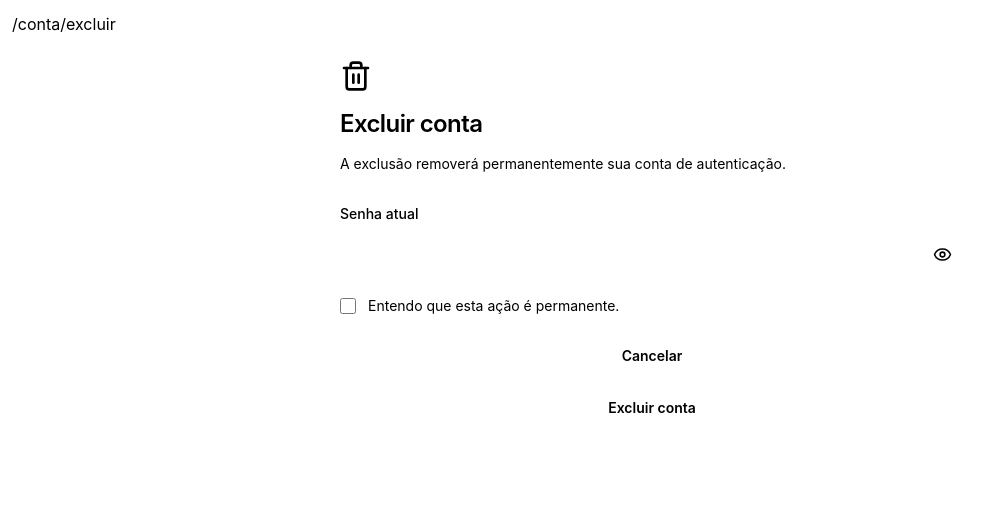
Test: DeleteCurrentUserPage › mantém senha, confirmação e rota após falha sanitizada
In the password field labelled "Senha atual": (652, 254) [340,232,964,276], type "incorreta"
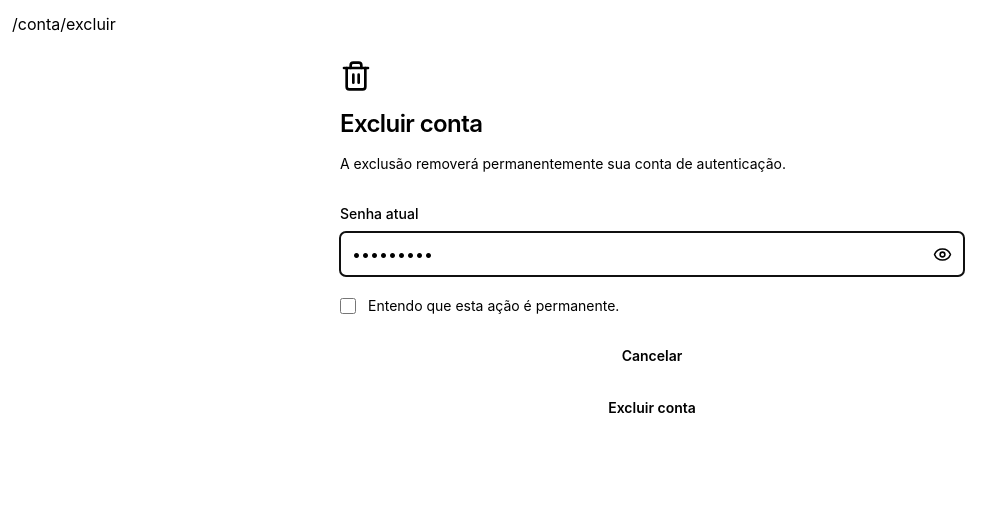
Click the checkbox labelled "Entendo que esta ação é permanente.": (348, 306) [340,298,356,314]
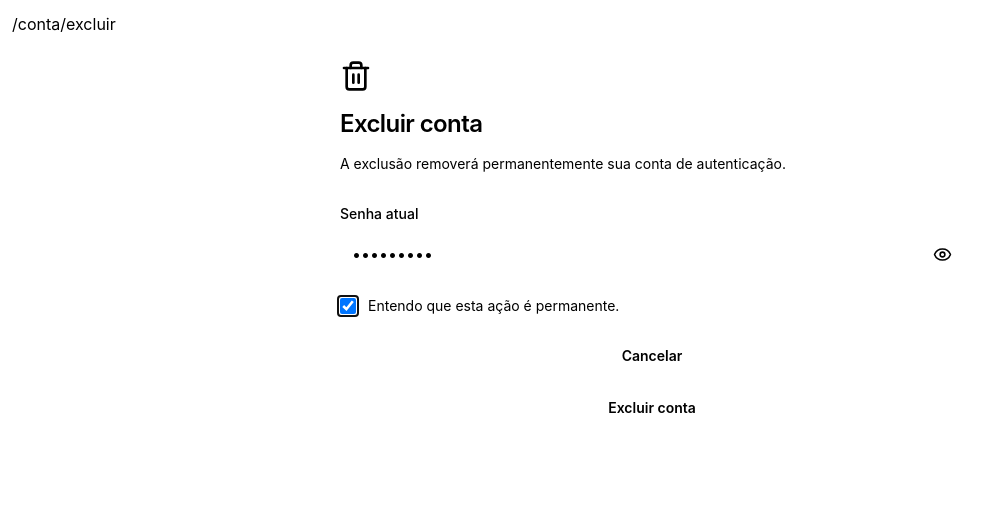
Click the button "Excluir conta": (652, 408) [340,388,964,428]
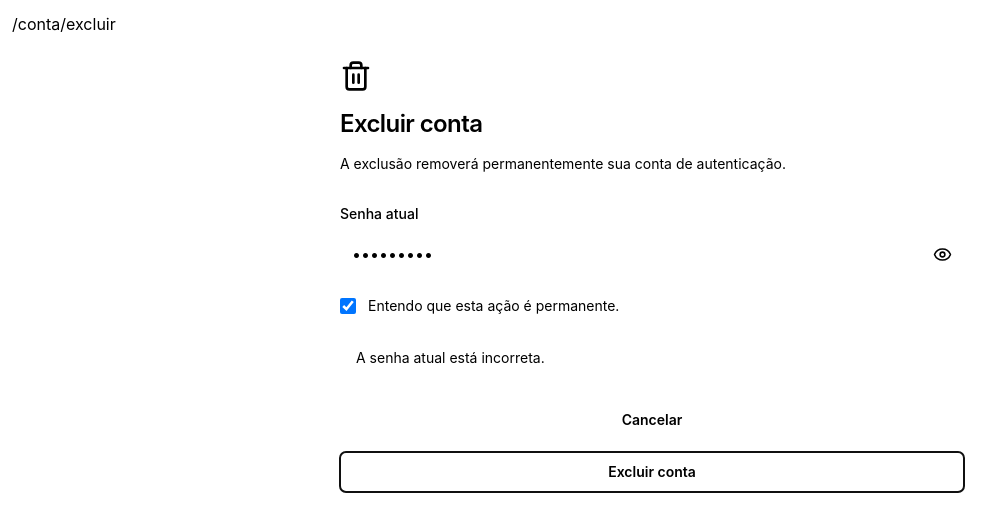
expect the text with test id "location" reads "/conta/excluir": met, box [12,14,116,34]
expect the checkbox labelled "Entendo que esta ação é permanente." is checked: met, box [340,298,356,314]
expect the message reads "A senha atual está incorreta.": met, box [356,349,545,366]
